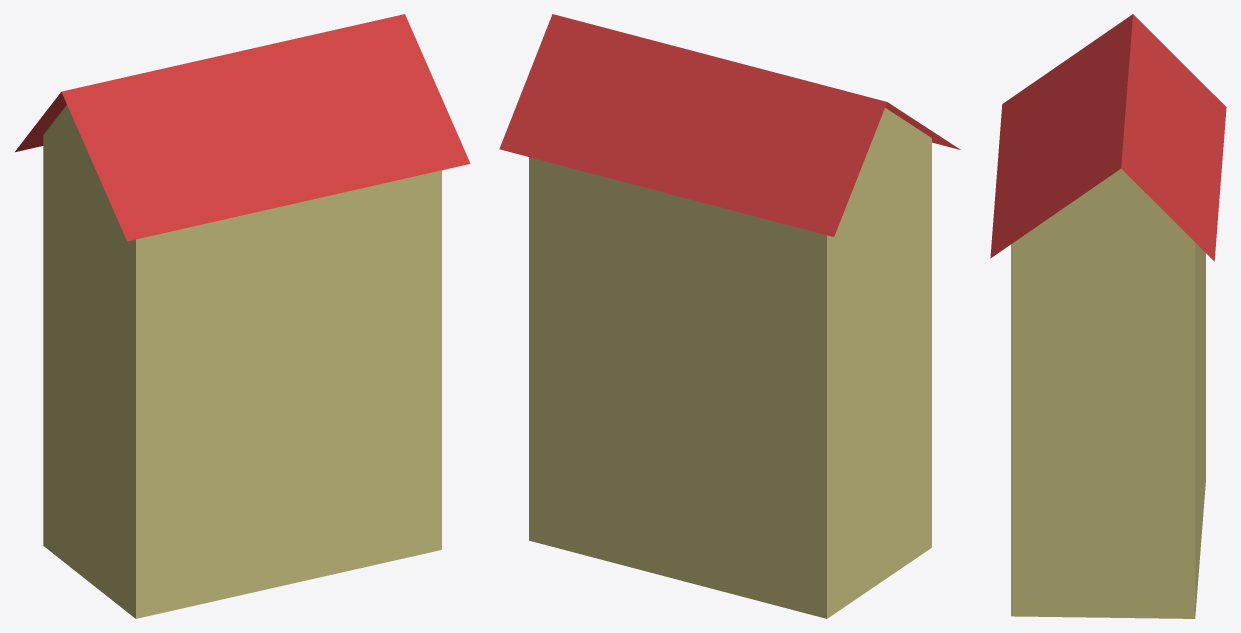
3 renders of one model, left to right at view 1: azimuth 30°, elevation 25°; view 2: azimuth 150°, elevation 25°; view 3: azimuth 270°, elevation 25°, orthographic. The views are drawn at different scales.
Size of the model in its own units: 4.65 by 2.95 by 6.3.
